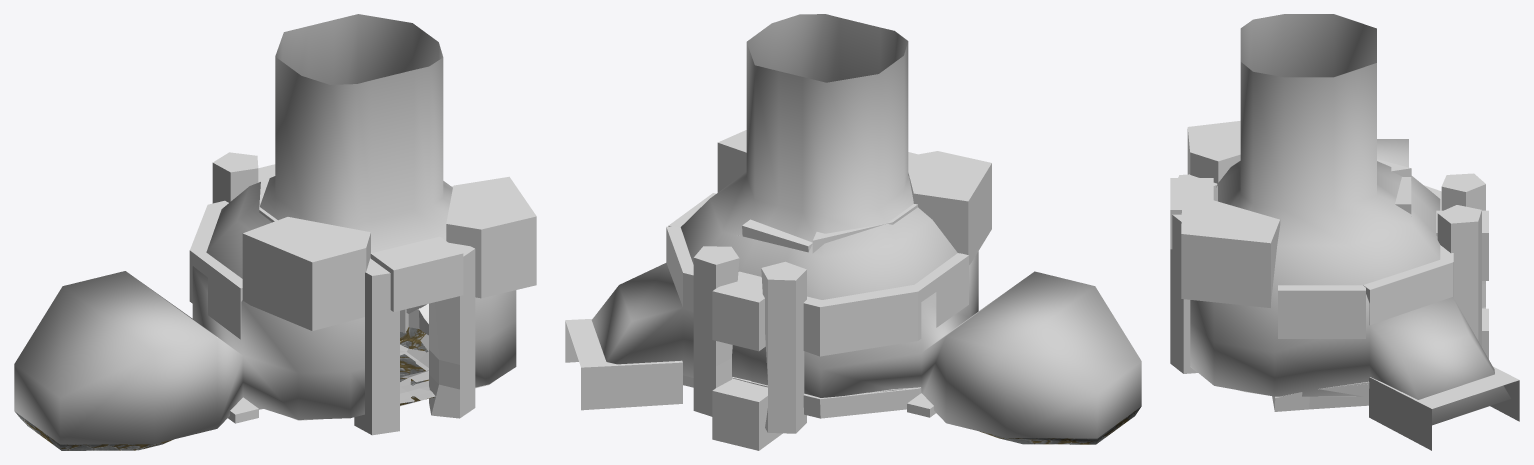
The model's file is Flooded Shaft.fbx.
The picture shows the model from 3 angles, left to right: view 1: azimuth 30°, elevation 25°; view 2: azimuth 150°, elevation 25°; view 3: azimuth 270°, elevation 25°; orthographic projection. The views are drawn at different scales.
Visible parts, largest first — view 1: Plane, Cube.013, Cube.014, Cylinder.006, Cylinder.007, Cube.015, Cube.010, Cylinder.010, Plane.004, Cube.019; view 2: Plane, Cube.010, Cylinder.010, Cube.013, Cube.011, Cylinder.009, Cube.016, Cube.018, Cube.005, Cube.014, Cube.007, Cube.009; view 3: Plane, Cube.014, Cube.012, Cube.011, Cylinder.009, Cube.010, Cube.013, Cylinder.006, Cube.005, Cylinder.010, Cube.015, Cube.018 (+1 smaller).
Part boxes in pixels (box(x1,y1,x2,y2)): Plane: box(14, 14, 516, 450); Cube.013: box(242, 217, 370, 330); Cube.014: box(446, 176, 536, 298); Cylinder.006: box(429, 243, 475, 418); Cylinder.007: box(354, 258, 399, 435); Cube.015: box(370, 236, 463, 311); Cube.010: box(189, 186, 453, 339); Cylinder.010: box(212, 152, 258, 203); Plane.004: box(290, 334, 495, 420); Cube.019: box(228, 397, 258, 423); Plane: box(591, 14, 1141, 444); Cube.010: box(666, 226, 968, 356); Cylinder.010: box(761, 261, 806, 433); Cube.013: box(908, 151, 991, 264); Cube.011: box(565, 318, 682, 410); Cylinder.009: box(693, 246, 739, 416); Cube.016: box(712, 378, 782, 450); Cube.018: box(712, 271, 765, 351); Cube.005: box(683, 375, 921, 418); Cube.014: box(717, 130, 746, 192); Cube.007: box(742, 219, 812, 252); Cube.009: box(812, 204, 917, 253); Plane: box(1190, 14, 1510, 425); Cube.014: box(1181, 199, 1280, 307); Cube.012: box(1278, 285, 1365, 338); Cube.011: box(1369, 366, 1519, 450); Cylinder.009: box(1437, 205, 1481, 346); Cube.010: box(1363, 185, 1453, 324); Cube.013: box(1187, 120, 1240, 183); Cylinder.006: box(1170, 214, 1197, 373); Cube.005: box(1272, 381, 1369, 411); Cylinder.010: box(1441, 173, 1485, 308); Cube.015: box(1170, 178, 1213, 249); Cube.018: box(1436, 210, 1488, 280).
Bounding box in the file's own units: 12015 × 7596 × 7435.
